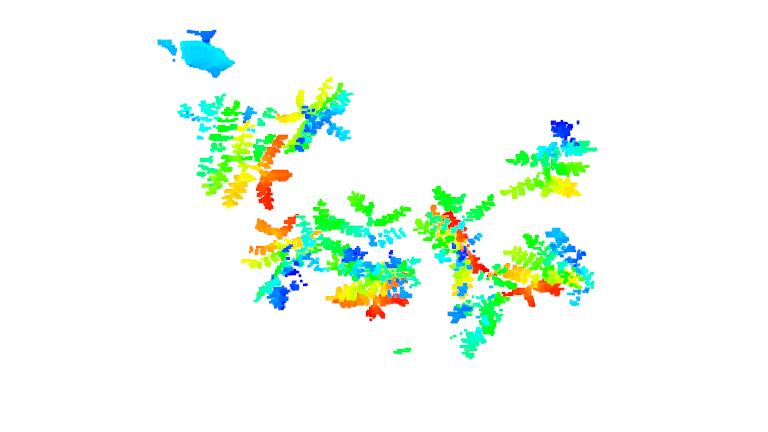chickpea: (182, 96, 293, 210), (317, 195, 418, 318), (501, 117, 600, 201), (245, 213, 324, 312), (503, 229, 598, 309), (419, 185, 493, 279), (447, 265, 513, 359), (275, 78, 355, 153)
